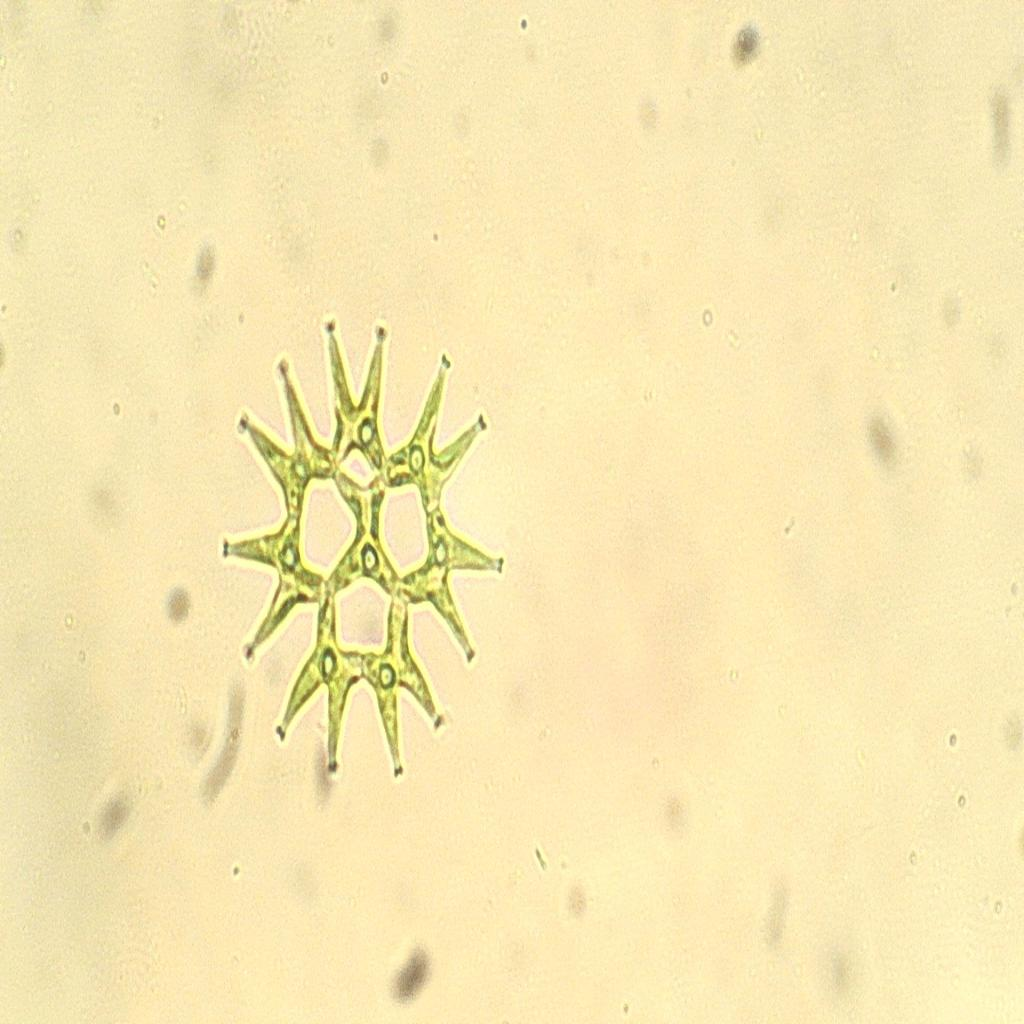Pediastrum_75T: (218, 305, 517, 796)
